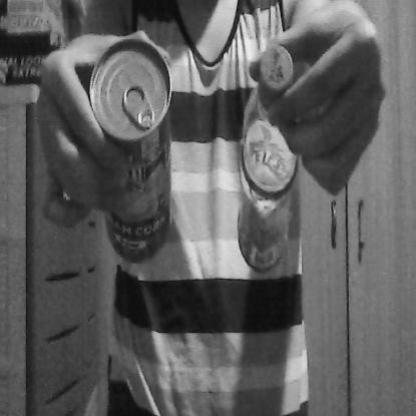Plastic Bottle: (227, 34, 308, 297)
